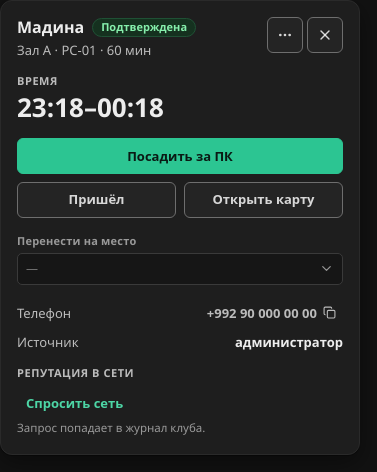
it: BookingDrawer · почему нельзя перенести › оставляет прочерк и предлагает места, когда переносить есть куда
What coordinates should you click on to do the following:
click the dropdown named "Перенести на место"
I would click on:
 (32, 269)
Its box is [17,253,343,285].
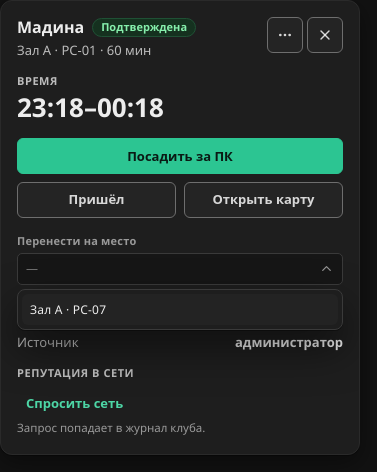
Expected: the option "Зал A · PC-07" is shown, [22,294,338,325]
